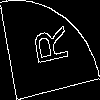R: (25, 25, 69, 69)
